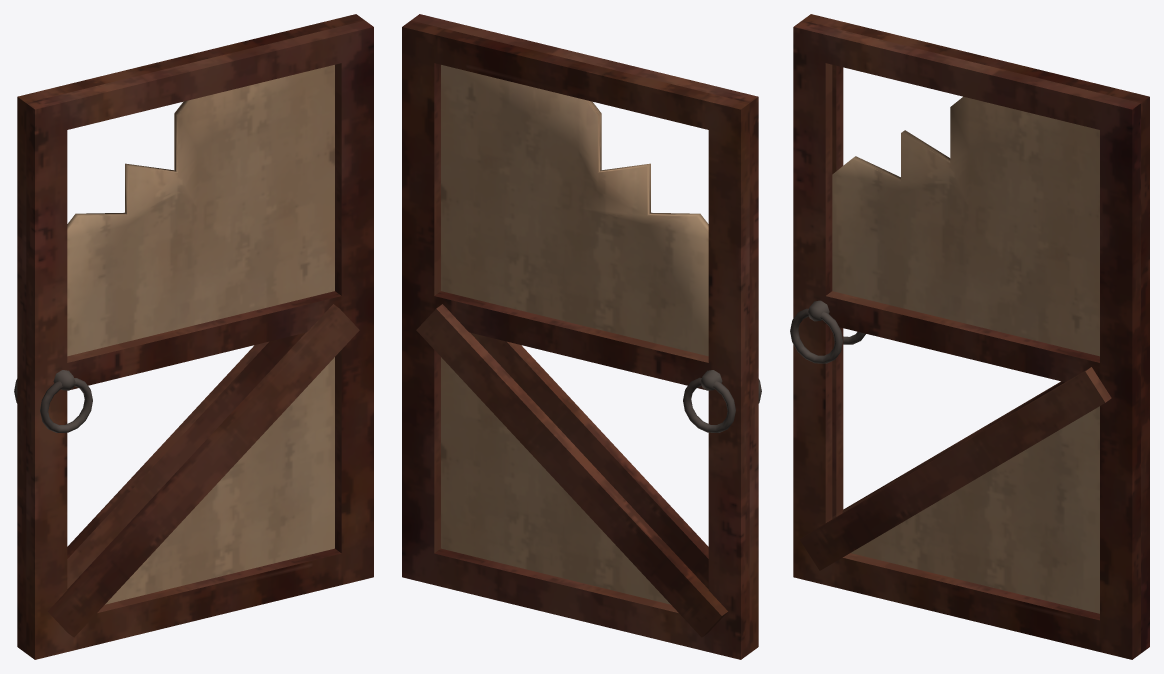
File: Door_Broken.fbx
3 views of the same model, side by side, from view 1: azimuth 30°, elevation 25°; view 2: azimuth 150°, elevation 25°; view 3: azimuth 330°, elevation 25° (orthographic).
Visible parts, largest first — view 1: Door; view 2: Door; view 3: Door.
Part boxes in pixels (<box>): Door: <box>14,14,373,659</box>; Door: <box>402,14,761,659</box>; Door: <box>790,14,1149,659</box>.
Size of the model in its own units: 336 by 521 by 57.53.
1 material, 1 textured.
